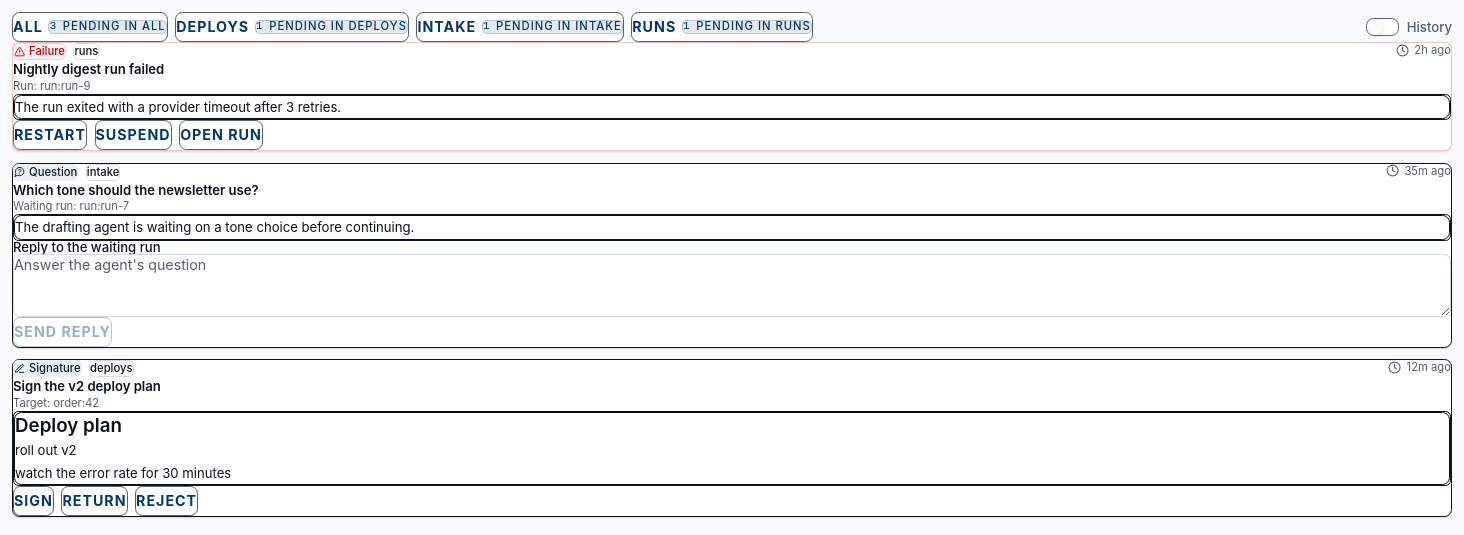
queue tabs filter pending items and show counts
Expected: the button "All 3 pending in All" is shown, [12,12,168,42]
Click the button "deploys 1 pending in deploys" at (292, 27), box [175,12,409,42]
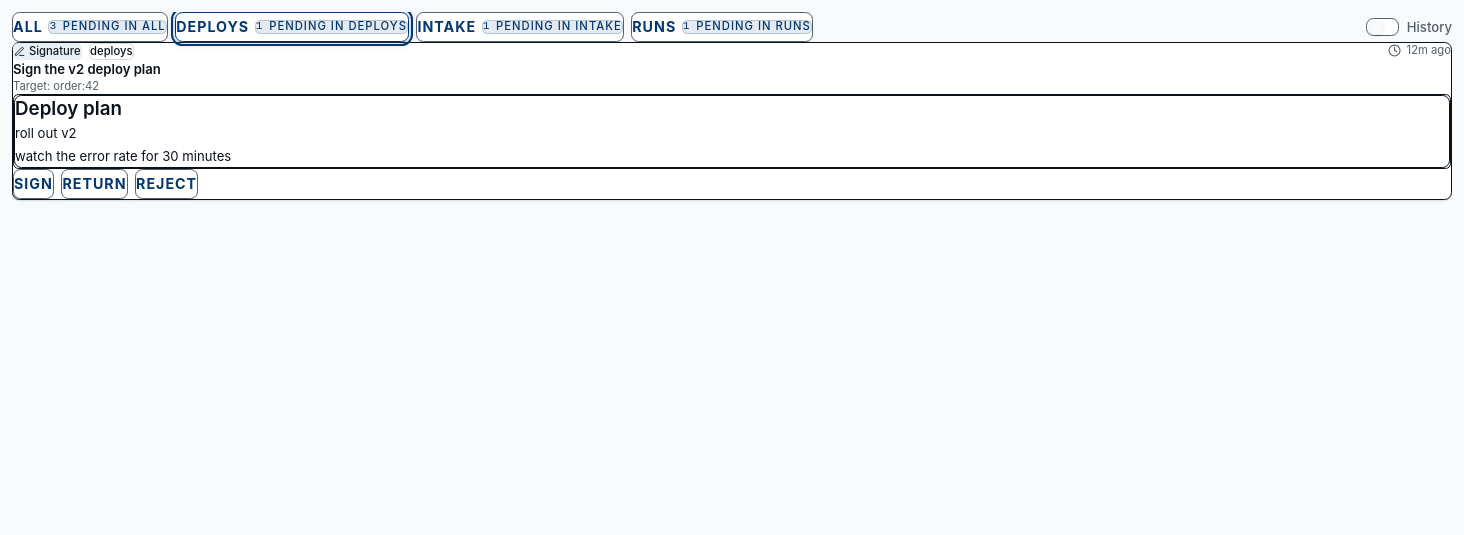
Expected: the heading "Sign the v2 deploy plan" is shown, [13,60,161,79]
Now the text "Which tone should the newsletter use?" is gone
Click the button "intake 1 pending in intake" at (520, 27), box [416,12,624,42]
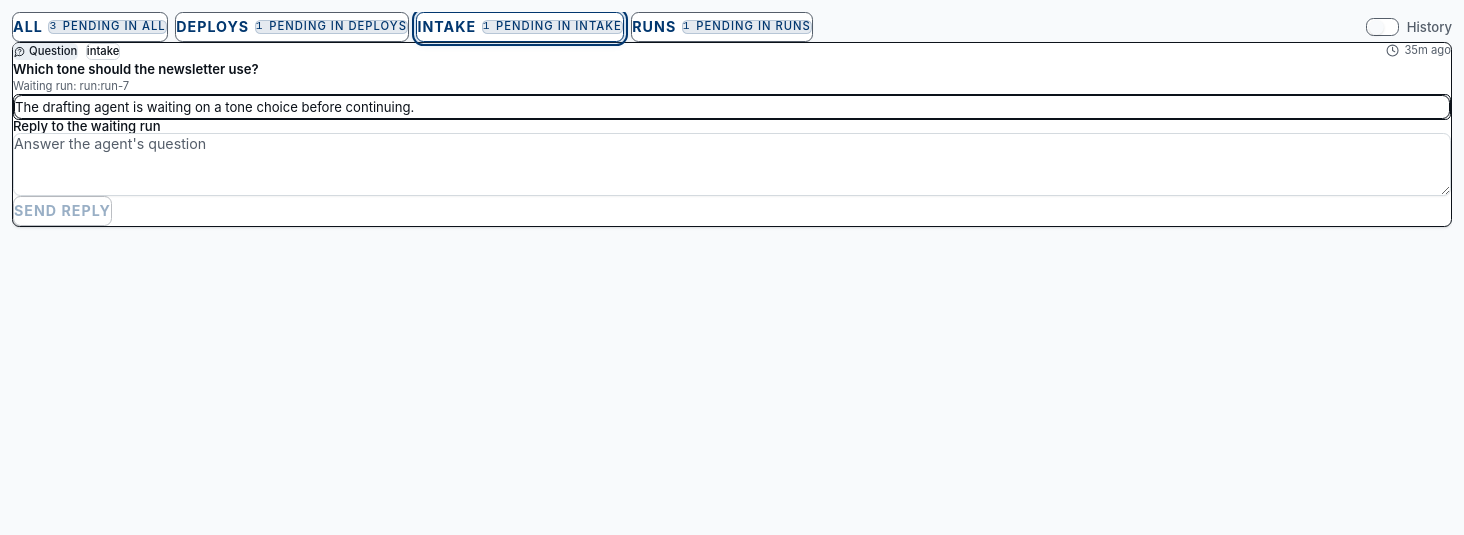
Now the text "Sign the v2 deploy plan" is gone
